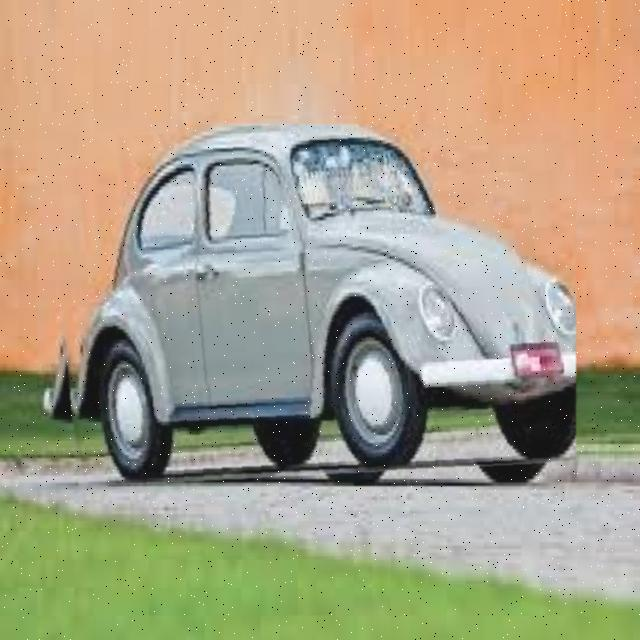car: (47, 125, 577, 488)
